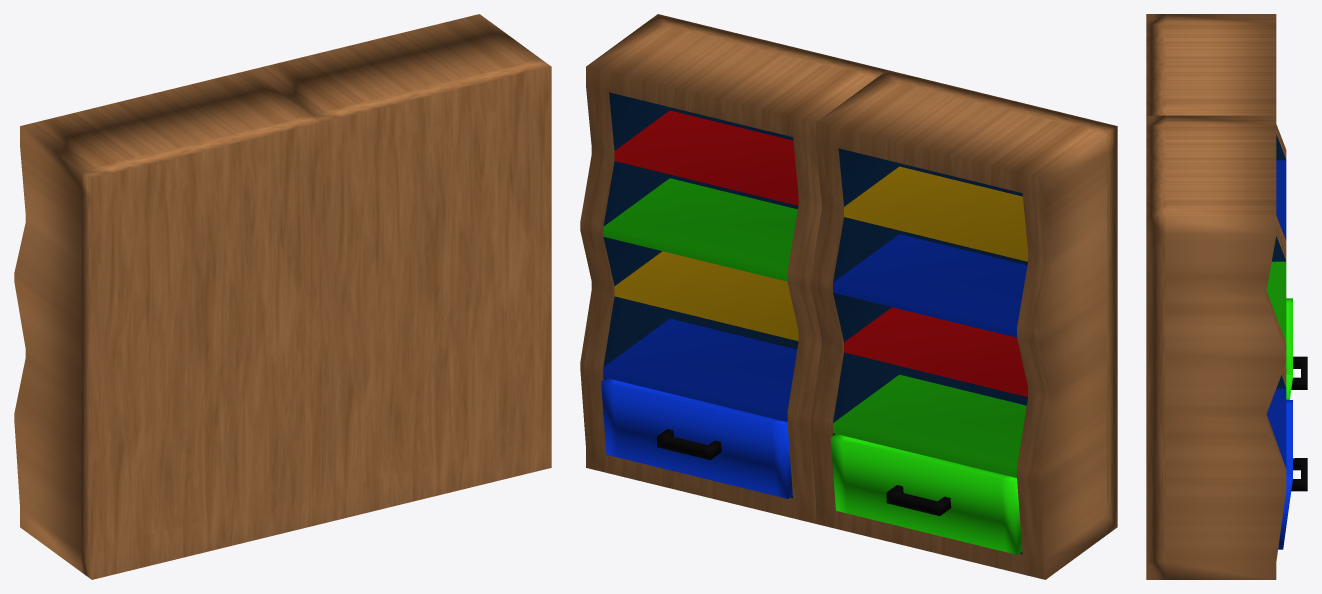
The model's file is shelves.fbx.
The picture shows the model from 3 angles, left to right: view 1: azimuth 30°, elevation 25°; view 2: azimuth 150°, elevation 25°; view 3: azimuth 270°, elevation 25°; orthographic projection. The views are drawn at different scales.
Visible parts, largest first — view 1: Shelf, Shelf.001; view 2: Shelf, Shelf.001, Drawer, Drawer.001, Handle, Handle.001; view 3: Shelf.001, Shelf, Drawer.001, Drawer, Handle.001, Handle.
Part boxes in pixels (bbox=[...]): Shelf: bbox=[14, 70, 321, 579]; Shelf.001: bbox=[250, 14, 551, 523]; Shelf: bbox=[810, 70, 1117, 579]; Shelf.001: bbox=[580, 14, 886, 523]; Drawer: bbox=[830, 434, 1022, 554]; Drawer.001: bbox=[601, 378, 792, 498]; Handle: bbox=[886, 485, 951, 515]; Handle.001: bbox=[657, 429, 721, 460]; Shelf.001: bbox=[1146, 115, 1286, 579]; Shelf: bbox=[1146, 14, 1286, 377]; Drawer.001: bbox=[1278, 399, 1292, 549]; Drawer: bbox=[1286, 298, 1292, 399]; Handle.001: bbox=[1291, 458, 1307, 491]; Handle: bbox=[1291, 356, 1307, 389].
Size of the model in its own units: 249 by 208 by 83.84.
7 materials, 1 textured.
